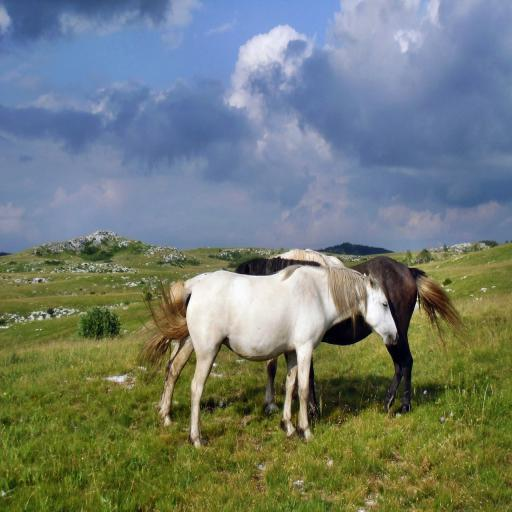horse: (148, 264, 400, 452), (220, 255, 472, 426)
